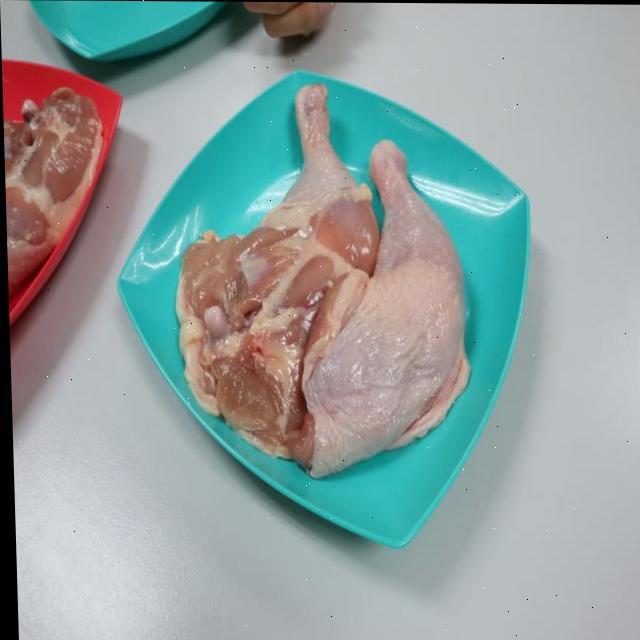quater: (203, 61, 370, 402), (308, 126, 471, 472)
